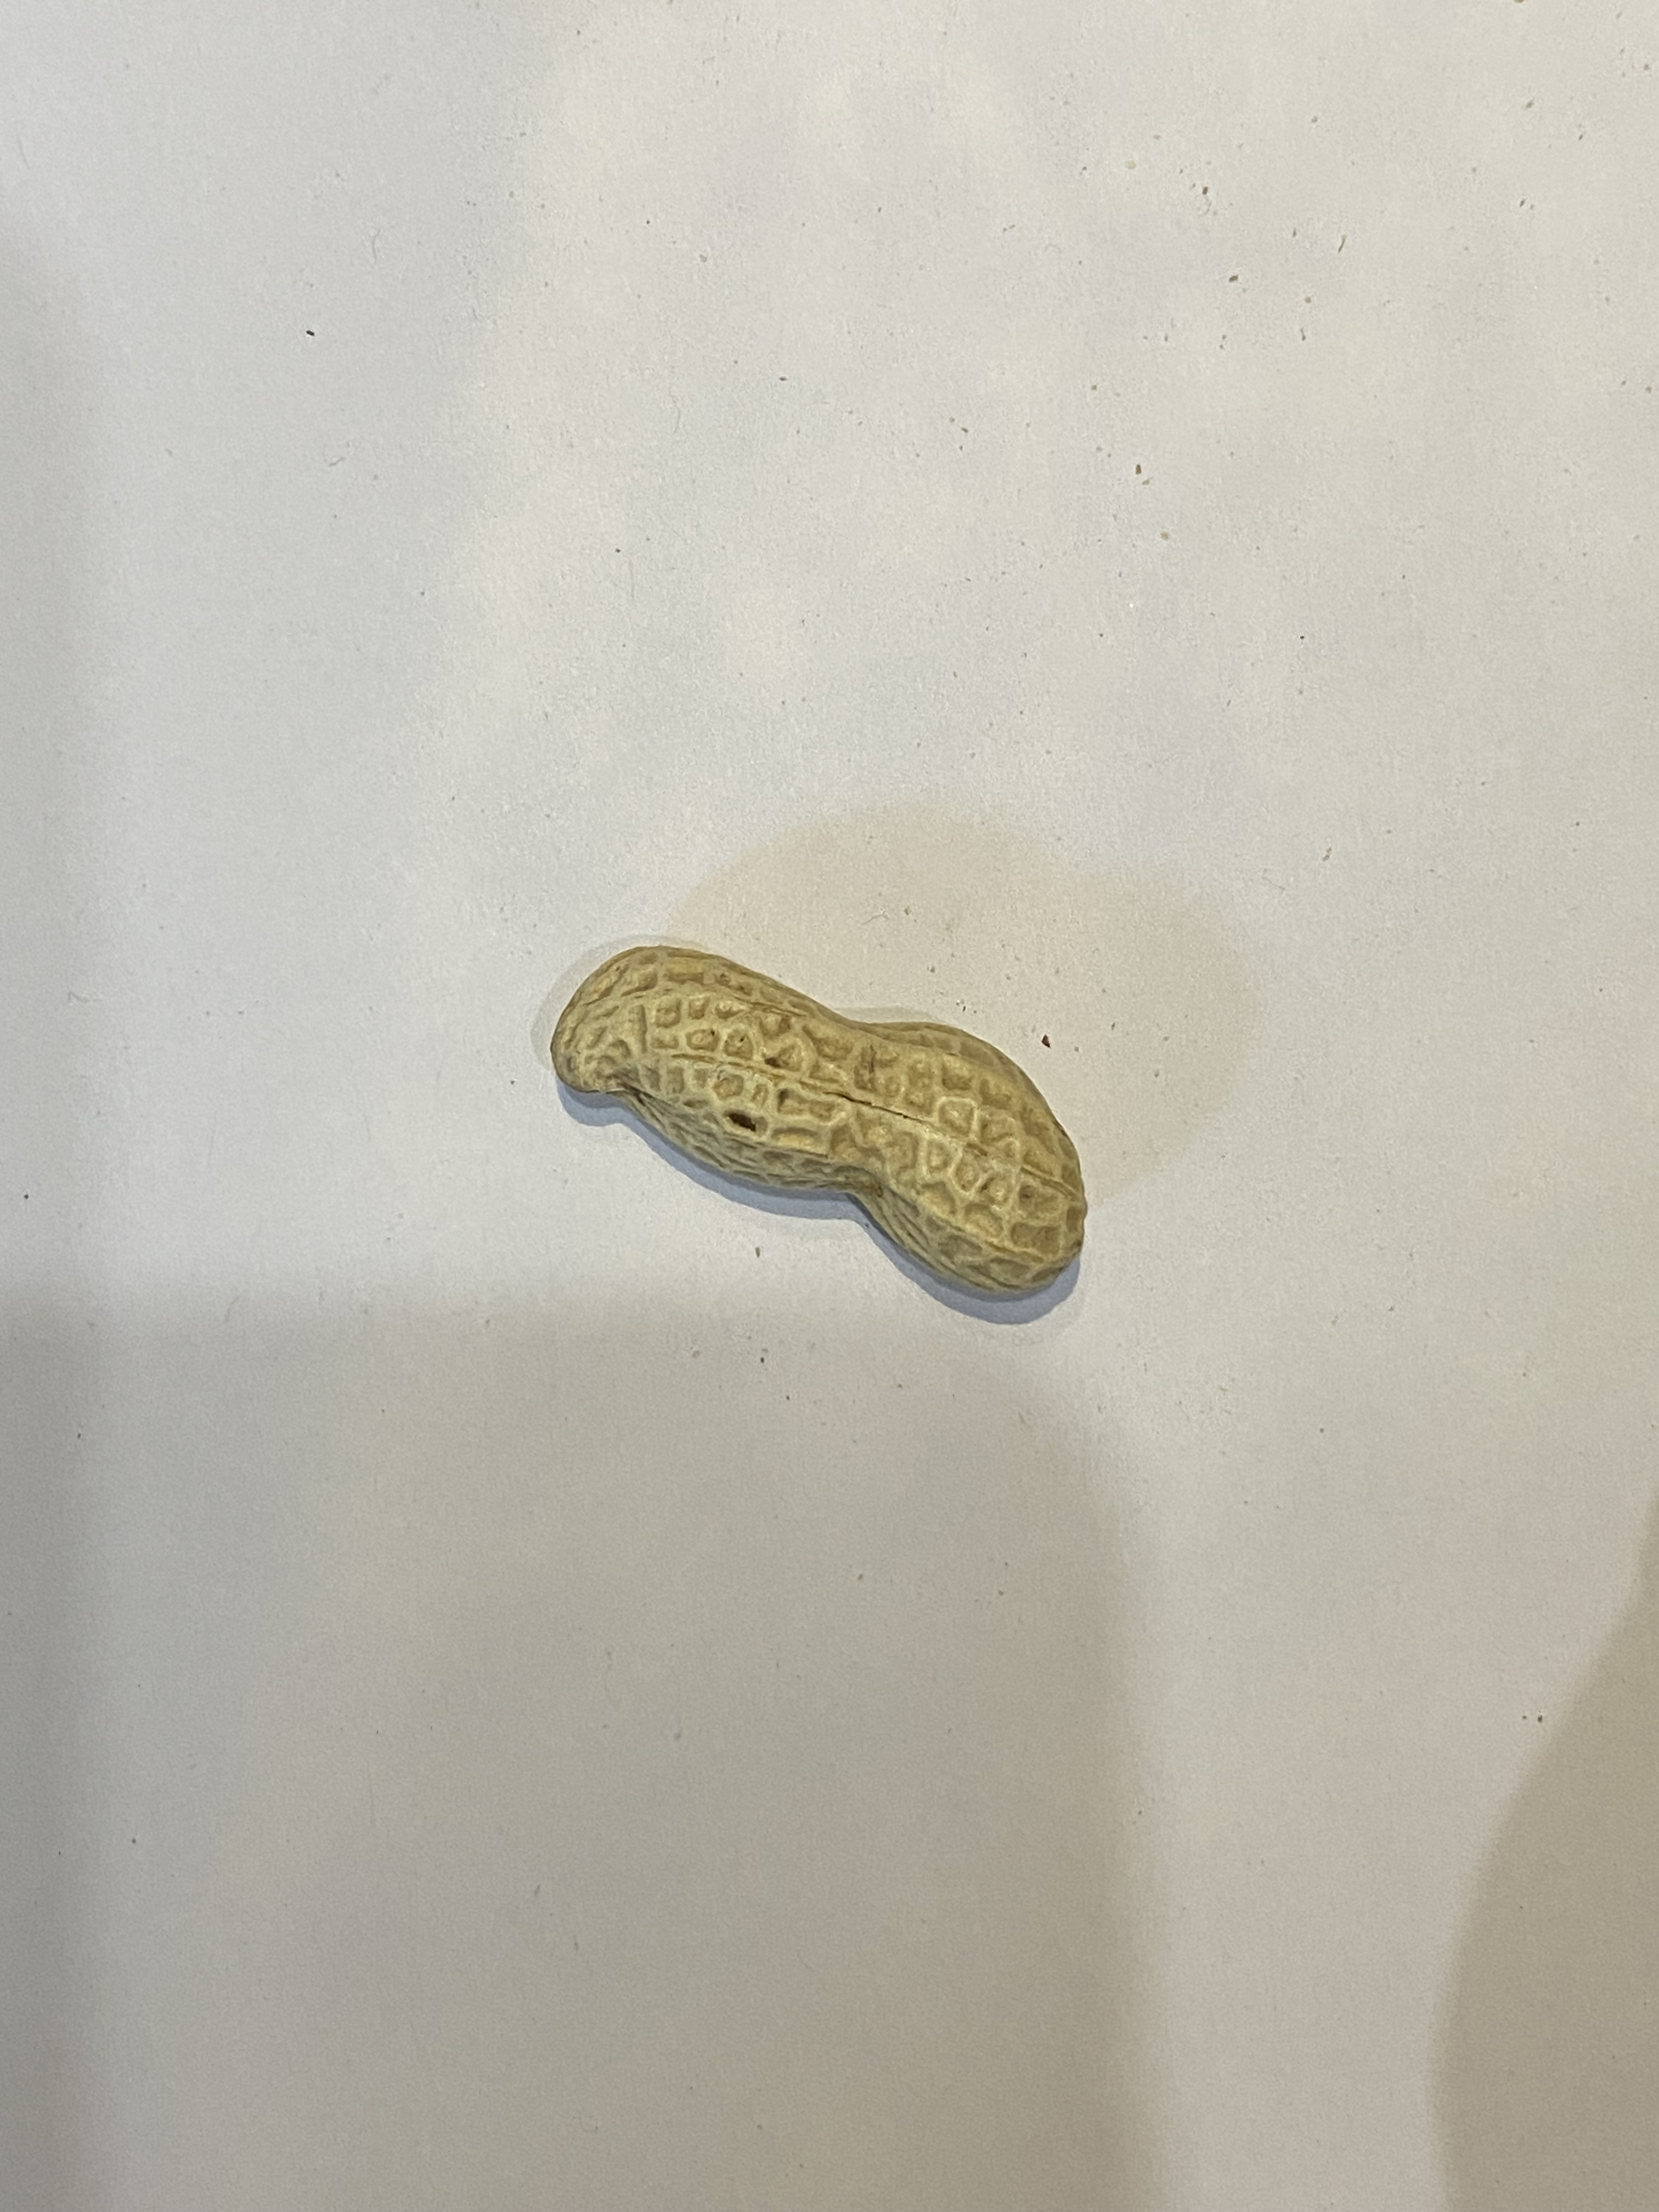kacang2: (533, 939, 1122, 1301)
